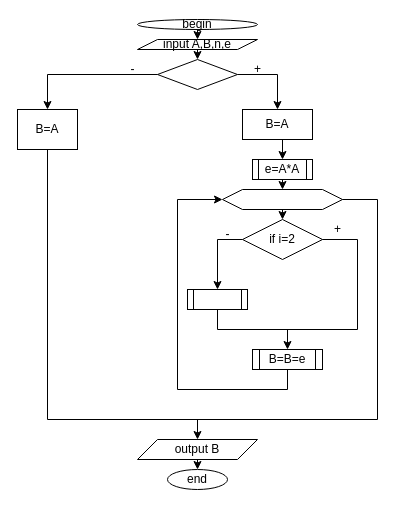
Image size: 396x507. Some labels were removed from this diagram. The shapes that lost their labels are listed below. From the top down, each one's centre as x and y in pixels, then its label:
point (197, 74): if n!=1
point (282, 199): for i =2 to n
point (217, 299): e=e*A
